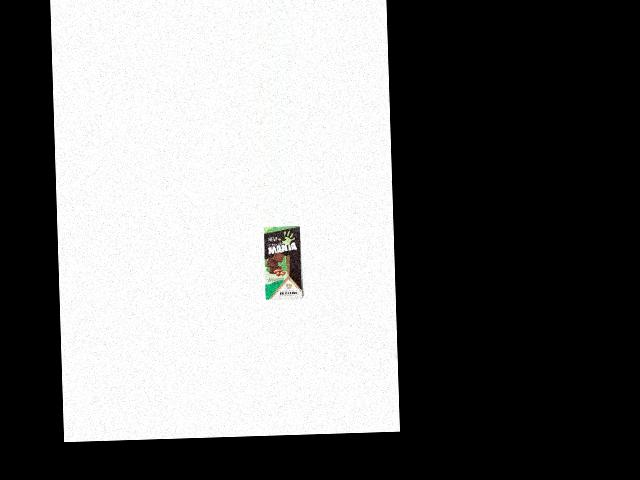chocolate: (261, 224, 304, 301)
